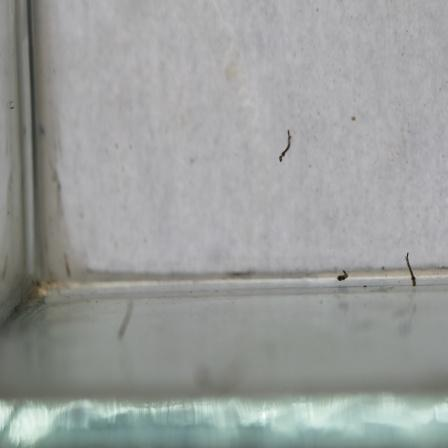Jentik-Nyamuk: (403, 249, 422, 289), (277, 127, 295, 167), (335, 267, 351, 284)
